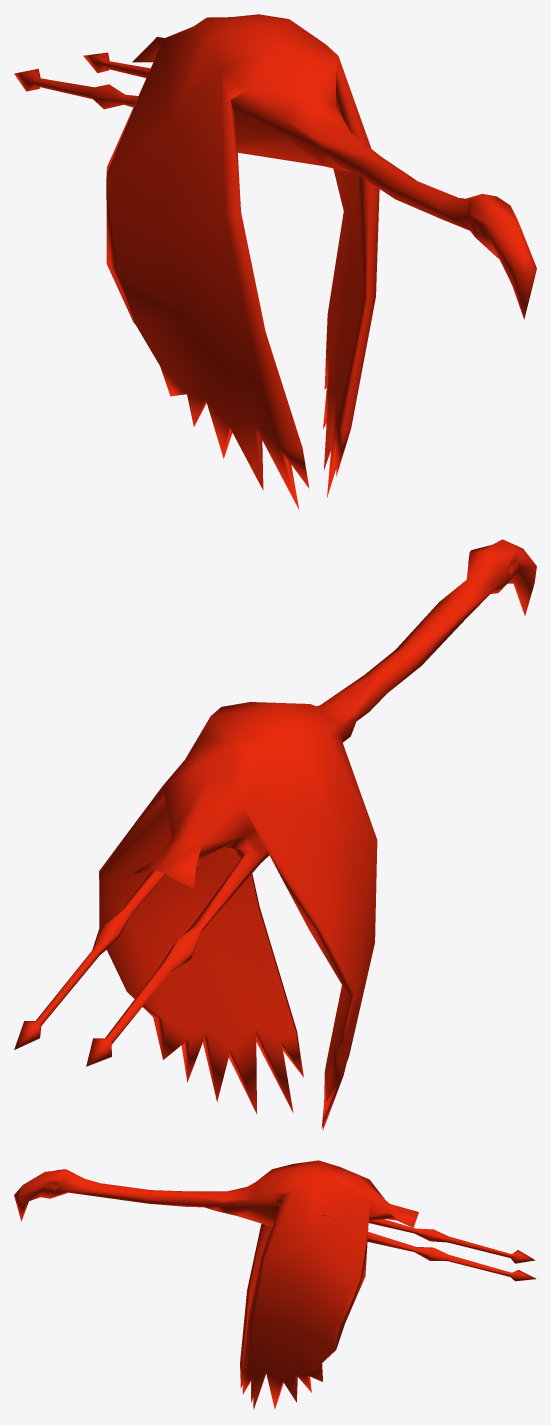
The model's file is flamingo5.glb.
3 views of the same model, one above another, from view 1: azimuth 30°, elevation 25°; view 2: azimuth 150°, elevation 25°; view 3: azimuth 270°, elevation 25° (orthographic). The views are drawn at different scales.
Visible parts, largest first — view 1: pink; view 2: pink; view 3: pink.
Boxes of the visible parts, <box> form: pink: <box>14,14,536,509</box>; pink: <box>14,539,536,1130</box>; pink: <box>14,1160,536,1409</box>.
Bounding box in the file's own units: 52.2 × 89.1 × 177.
